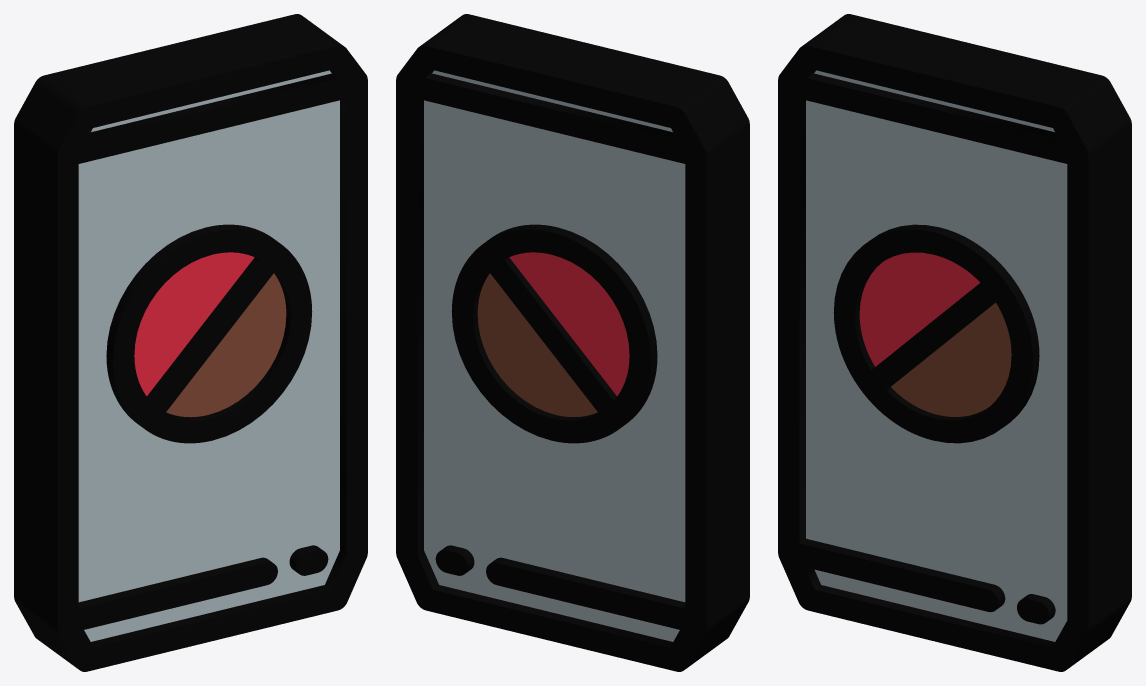
The model's file is Can.fbx.
3 views of the same model, side by side, from view 1: azimuth 30°, elevation 25°; view 2: azimuth 150°, elevation 25°; view 3: azimuth 330°, elevation 25° (orthographic).
Parts seen in each view (by area): view 1: Curve.003, Curve, Curve.005, Curve.001, Curve.002, Curve.004; view 2: Curve.003, Curve, Curve.005, Curve.001, Curve.002, Curve.004; view 3: Curve.003, Curve, Curve.005, Curve.001, Curve.002, Curve.004.
Boxes of the visible parts, <box> form: Curve.003: <box>14,14,367,671</box>; Curve: <box>78,70,339,641</box>; Curve.005: <box>106,224,312,443</box>; Curve.001: <box>134,252,254,396</box>; Curve.002: <box>166,273,286,417</box>; Curve.004: <box>289,545,328,575</box>; Curve.003: <box>396,14,749,671</box>; Curve: <box>424,70,685,641</box>; Curve.005: <box>451,224,657,443</box>; Curve.001: <box>509,252,629,396</box>; Curve.002: <box>477,273,597,417</box>; Curve.004: <box>435,545,474,575</box>; Curve.003: <box>778,14,1131,671</box>; Curve: <box>806,70,1067,641</box>; Curve.005: <box>833,224,1039,443</box>; Curve.001: <box>859,252,980,366</box>; Curve.002: <box>891,302,1011,416</box>; Curve.004: <box>1017,594,1055,624</box>.
Bounding box in the file's own units: 83.16 × 144 × 20.
